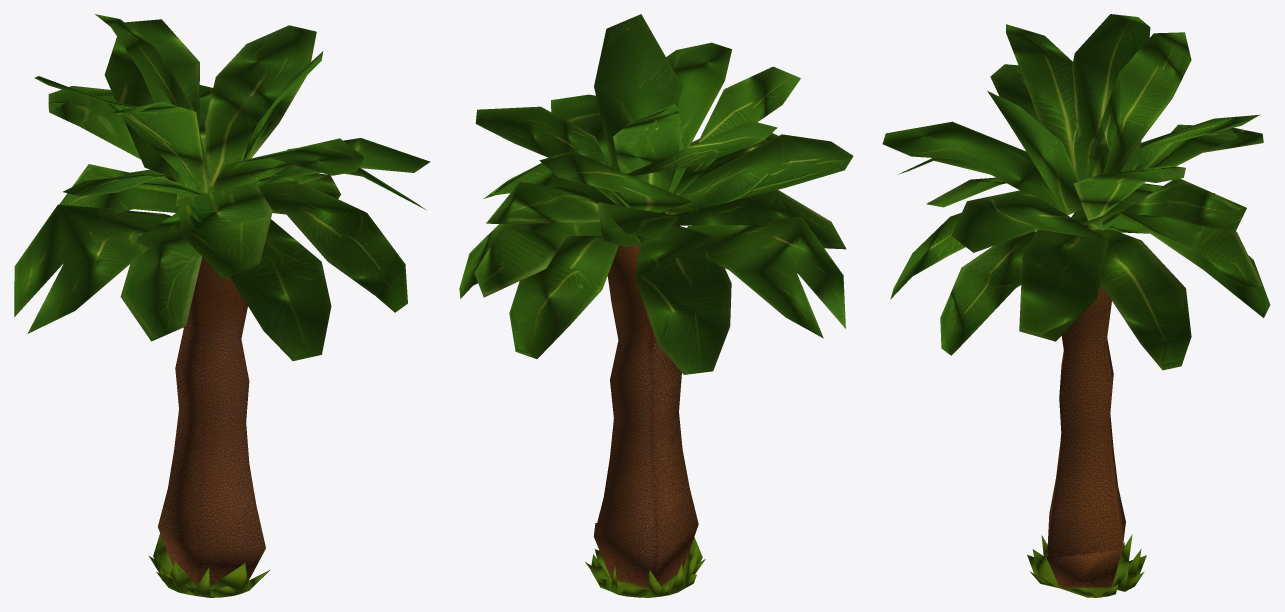
Rendered from palm.glb.
The picture shows the model from 3 angles, left to right: view 1: azimuth 30°, elevation 25°; view 2: azimuth 150°, elevation 25°; view 3: azimuth 270°, elevation 25°; orthographic projection. The views are drawn at different scales.
Visible parts, largest first — view 1: tripo_node_04073945-018d-4753-93ca-876f561ae328; view 2: tripo_node_04073945-018d-4753-93ca-876f561ae328; view 3: tripo_node_04073945-018d-4753-93ca-876f561ae328.
Boxes of the visible parts, x1,y1,x2,y2 form: tripo_node_04073945-018d-4753-93ca-876f561ae328: [14, 14, 430, 597]; tripo_node_04073945-018d-4753-93ca-876f561ae328: [459, 14, 853, 597]; tripo_node_04073945-018d-4753-93ca-876f561ae328: [882, 14, 1270, 597].
Size of the model in its own units: 0.7441 by 0.998 by 0.6816.
Materials: 1 (1 with a texture image).
